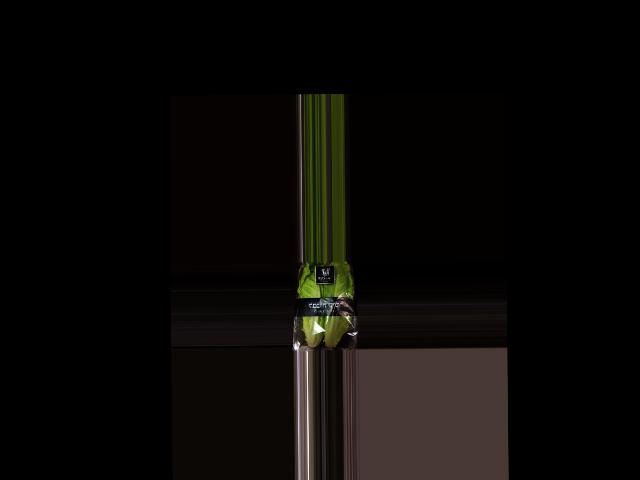lettuce: (292, 261, 353, 351)
